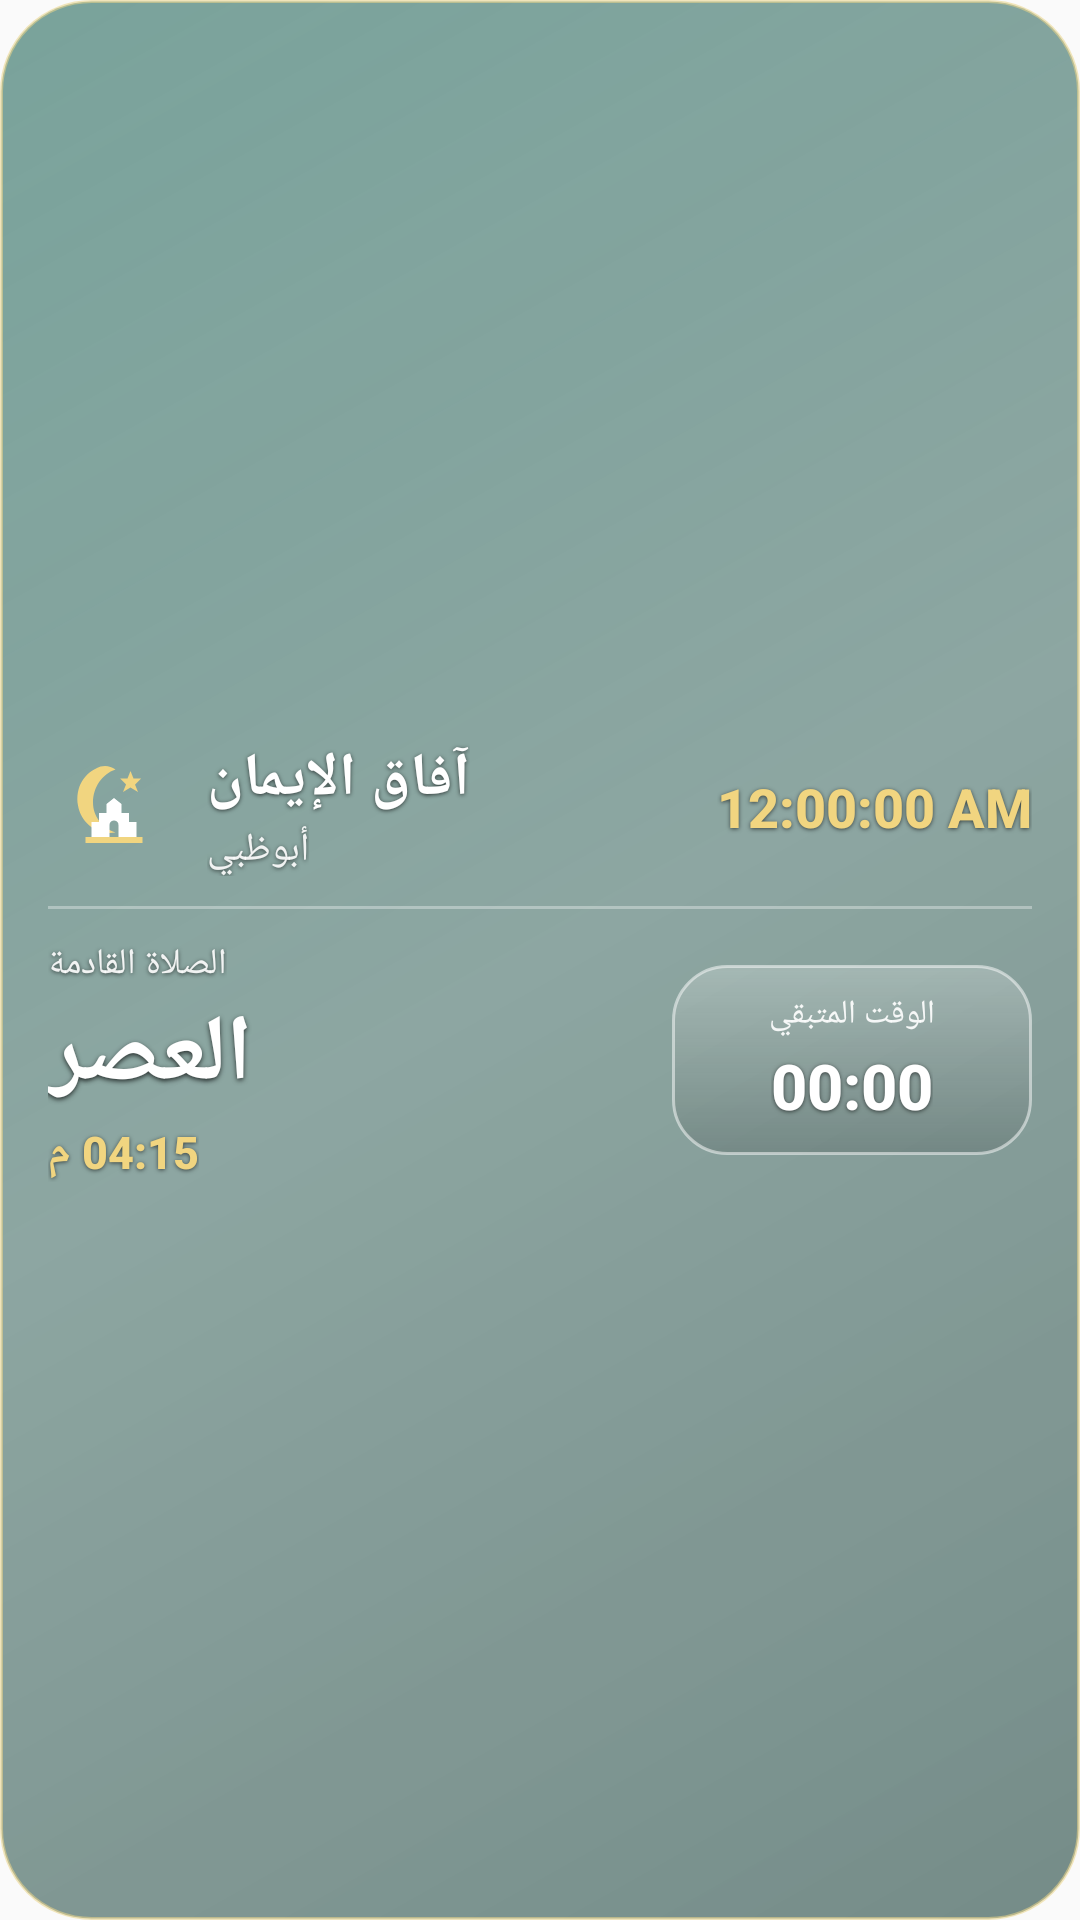

Icon click points for this 1080w x 1920h phone screenshot, format (x,y):
هلال ومسجد: (110,804)
